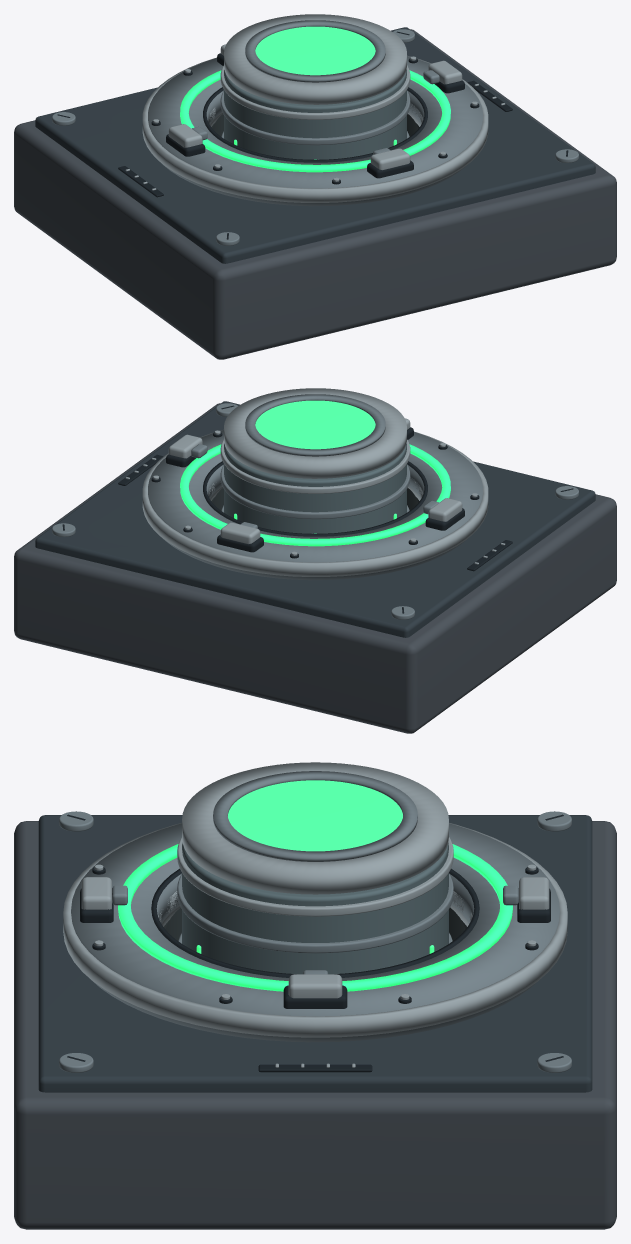
Rendered from EnergyCellSocket.glb.
The picture shows the model from 3 angles, top to bottom: view 1: azimuth 30°, elevation 25°; view 2: azimuth 150°, elevation 25°; view 3: azimuth 270°, elevation 25°; orthographic projection. The views are drawn at different scales.
Visible parts, largest first — view 1: SOCKET_Housing_Main_Gunmetal, SOCKET_Front_Faceplate, SOCKET_Armored_Retainer_Bezel, CELL_Insert_Ceramic_Titanium_Body_Dia_0.92m, CELL_Front_Armored_End_Cap, SOCKET_Outer_Bezel_Machined_Border, CELL_Emissive_Core_Window, SOCKET_Indicator_Ring_Green_Emissive, CELL_Front_Cap_Retaining_Rim, CELL_Contact_Rib_05, CELL_Contact_Rib_04, SOCKET_Bezel_Inner_Dark_Inlay (+3 smaller); view 2: SOCKET_Housing_Main_Gunmetal, SOCKET_Front_Faceplate, SOCKET_Armored_Retainer_Bezel, CELL_Insert_Ceramic_Titanium_Body_Dia_0.92m, CELL_Front_Armored_End_Cap, SOCKET_Outer_Bezel_Machined_Border, CELL_Emissive_Core_Window, SOCKET_Indicator_Ring_Green_Emissive, CELL_Front_Cap_Retaining_Rim, CELL_Contact_Rib_05, CELL_Contact_Rib_04, SOCKET_Bezel_Inner_Dark_Inlay (+3 smaller); view 3: SOCKET_Housing_Main_Gunmetal, SOCKET_Front_Faceplate, SOCKET_Armored_Retainer_Bezel, CELL_Insert_Ceramic_Titanium_Body_Dia_0.92m, CELL_Front_Armored_End_Cap, SOCKET_Outer_Bezel_Machined_Border, CELL_Emissive_Core_Window, SOCKET_Indicator_Ring_Green_Emissive, CELL_Front_Cap_Retaining_Rim, CELL_Contact_Rib_05, CELL_Contact_Rib_04, SOCKET_Bezel_Inner_Dark_Inlay (+6 smaller).
Boxes of the visible parts, x1=… form: SOCKET_Housing_Main_Gunmetal: x1=14, y1=29, x2=616, y2=359; SOCKET_Front_Faceplate: x1=35, y1=27, x2=595, y2=263; SOCKET_Armored_Retainer_Bezel: x1=148, y1=56, x2=482, y2=206; CELL_Insert_Ceramic_Titanium_Body_Dia_0.92m: x1=224, y1=69, x2=406, y2=159; CELL_Front_Armored_End_Cap: x1=224, y1=14, x2=406, y2=104; SOCKET_Outer_Bezel_Machined_Border: x1=142, y1=55, x2=488, y2=202; CELL_Emissive_Core_Window: x1=255, y1=26, x2=375, y2=75; SOCKET_Indicator_Ring_Green_Emissive: x1=180, y1=70, x2=450, y2=172; CELL_Front_Cap_Retaining_Rim: x1=245, y1=20, x2=385, y2=82; CELL_Contact_Rib_05: x1=220, y1=65, x2=410, y2=119; CELL_Contact_Rib_04: x1=220, y1=90, x2=410, y2=145; SOCKET_Bezel_Inner_Dark_Inlay: x1=203, y1=87, x2=427, y2=162; SOCKET_Housing_Main_Gunmetal: x1=14, y1=403, x2=616, y2=733; SOCKET_Front_Faceplate: x1=35, y1=401, x2=595, y2=637; SOCKET_Armored_Retainer_Bezel: x1=148, y1=430, x2=482, y2=580; CELL_Insert_Ceramic_Titanium_Body_Dia_0.92m: x1=224, y1=443, x2=406, y2=533; CELL_Front_Armored_End_Cap: x1=224, y1=388, x2=406, y2=478; SOCKET_Outer_Bezel_Machined_Border: x1=142, y1=429, x2=488, y2=576; CELL_Emissive_Core_Window: x1=255, y1=400, x2=375, y2=449; SOCKET_Indicator_Ring_Green_Emissive: x1=180, y1=444, x2=450, y2=546; CELL_Front_Cap_Retaining_Rim: x1=245, y1=394, x2=385, y2=456; CELL_Contact_Rib_05: x1=220, y1=439, x2=410, y2=493; CELL_Contact_Rib_04: x1=220, y1=464, x2=410, y2=519; SOCKET_Bezel_Inner_Dark_Inlay: x1=203, y1=461, x2=427, y2=536; SOCKET_Housing_Main_Gunmetal: x1=14, y1=821, x2=616, y2=1229; SOCKET_Front_Faceplate: x1=38, y1=815, x2=592, y2=1092; SOCKET_Armored_Retainer_Bezel: x1=71, y1=823, x2=559, y2=1042; CELL_Insert_Ceramic_Titanium_Body_Dia_0.92m: x1=182, y1=843, x2=448, y2=974; CELL_Front_Armored_End_Cap: x1=182, y1=762, x2=448, y2=894; SOCKET_Outer_Bezel_Machined_Border: x1=63, y1=823, x2=567, y2=1037; CELL_Emissive_Core_Window: x1=228, y1=780, x2=402, y2=851; SOCKET_Indicator_Ring_Green_Emissive: x1=118, y1=844, x2=512, y2=991; CELL_Front_Cap_Retaining_Rim: x1=213, y1=771, x2=417, y2=861; CELL_Contact_Rib_05: x1=177, y1=837, x2=453, y2=916; CELL_Contact_Rib_04: x1=177, y1=874, x2=453, y2=953; SOCKET_Bezel_Inner_Dark_Inlay: x1=151, y1=868, x2=479, y2=977.
Bounding box in the file's own units: 2.34 × 1.05 × 2.08.
